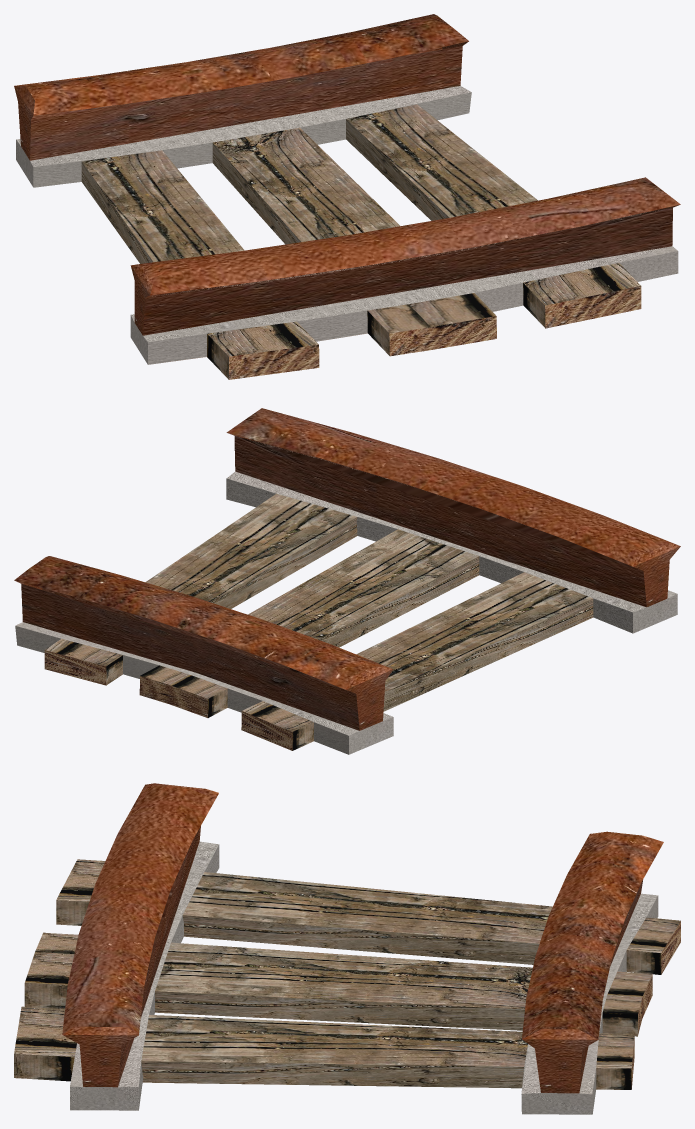
File: RailTurn.fbx
The picture shows the model from 3 angles, top to bottom: view 1: azimuth 30°, elevation 25°; view 2: azimuth 150°, elevation 25°; view 3: azimuth 270°, elevation 25°; orthographic projection. The views are drawn at different scales.
Visible parts, largest first — view 1: RailTurnTex__2_; view 2: RailTurnTex__2_; view 3: RailTurnTex__2_.
Boxes of the visible parts, x1=… form: RailTurnTex__2_: x1=14, y1=14, x2=680, y2=379; RailTurnTex__2_: x1=14, y1=408, x2=680, y2=754; RailTurnTex__2_: x1=14, y1=783, x2=680, y2=1114.
Bounding box in the file's own units: 113 × 17.46 × 124.
